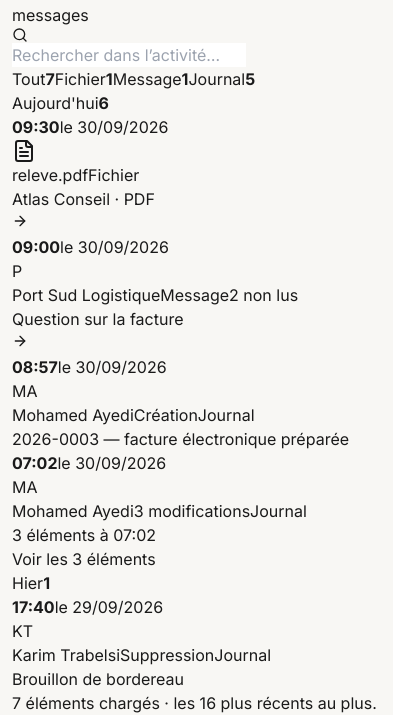
onglet Activité du cabinet › chronologie par jour : acteur, action du journal et source visibles ; écritures identiques d'une même minute regroupées
The width and height of the screenshot is (393, 715).
(page scrolled)
Expected: the heading "Aujourd'hui6" is shown, [12, 93, 109, 113]
Expected: the heading "Hier1" is shown, [12, 573, 50, 593]
Click the button "Voir les 3 éléments".
click(84, 559)  # box [12, 547, 156, 571]
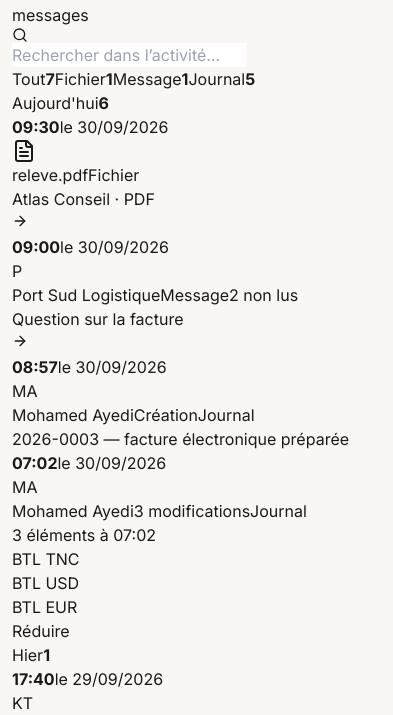
Now the list item "BTL TNC" is shown, box [12, 549, 80, 569]
Now the list item "BTL USD" is shown, box [12, 573, 79, 593]
Now the list item "BTL EUR" is shown, box [12, 597, 77, 617]
Click the button "Réduire".
click(41, 631)  # box [12, 619, 70, 643]
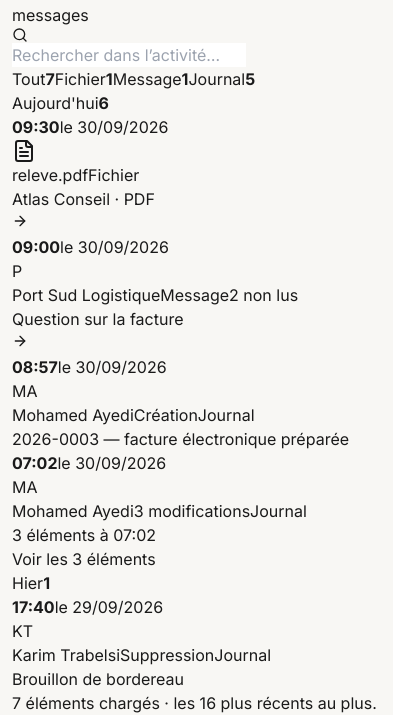
Now the list item "BTL TNC" is gone
